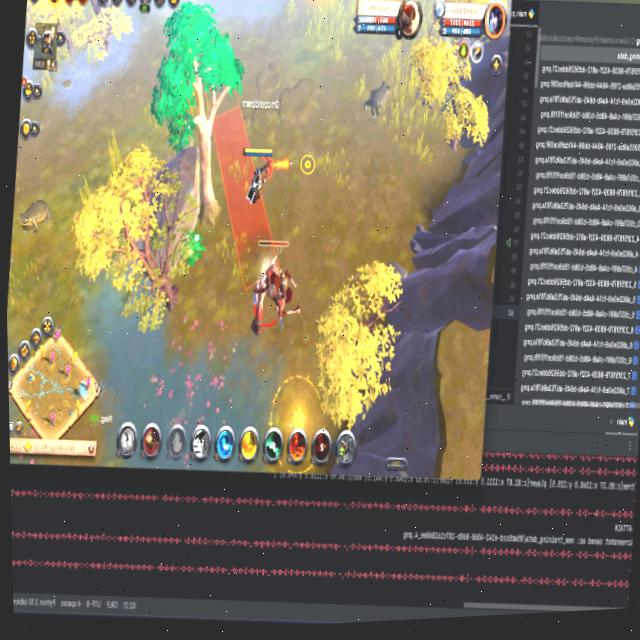hide: (172, 225, 208, 278)
ore: (240, 227, 299, 339), (12, 183, 58, 244), (355, 71, 394, 129)
red: (233, 137, 280, 219)
silver: (200, 75, 283, 297)
wisp caged: (138, 0, 256, 232)
